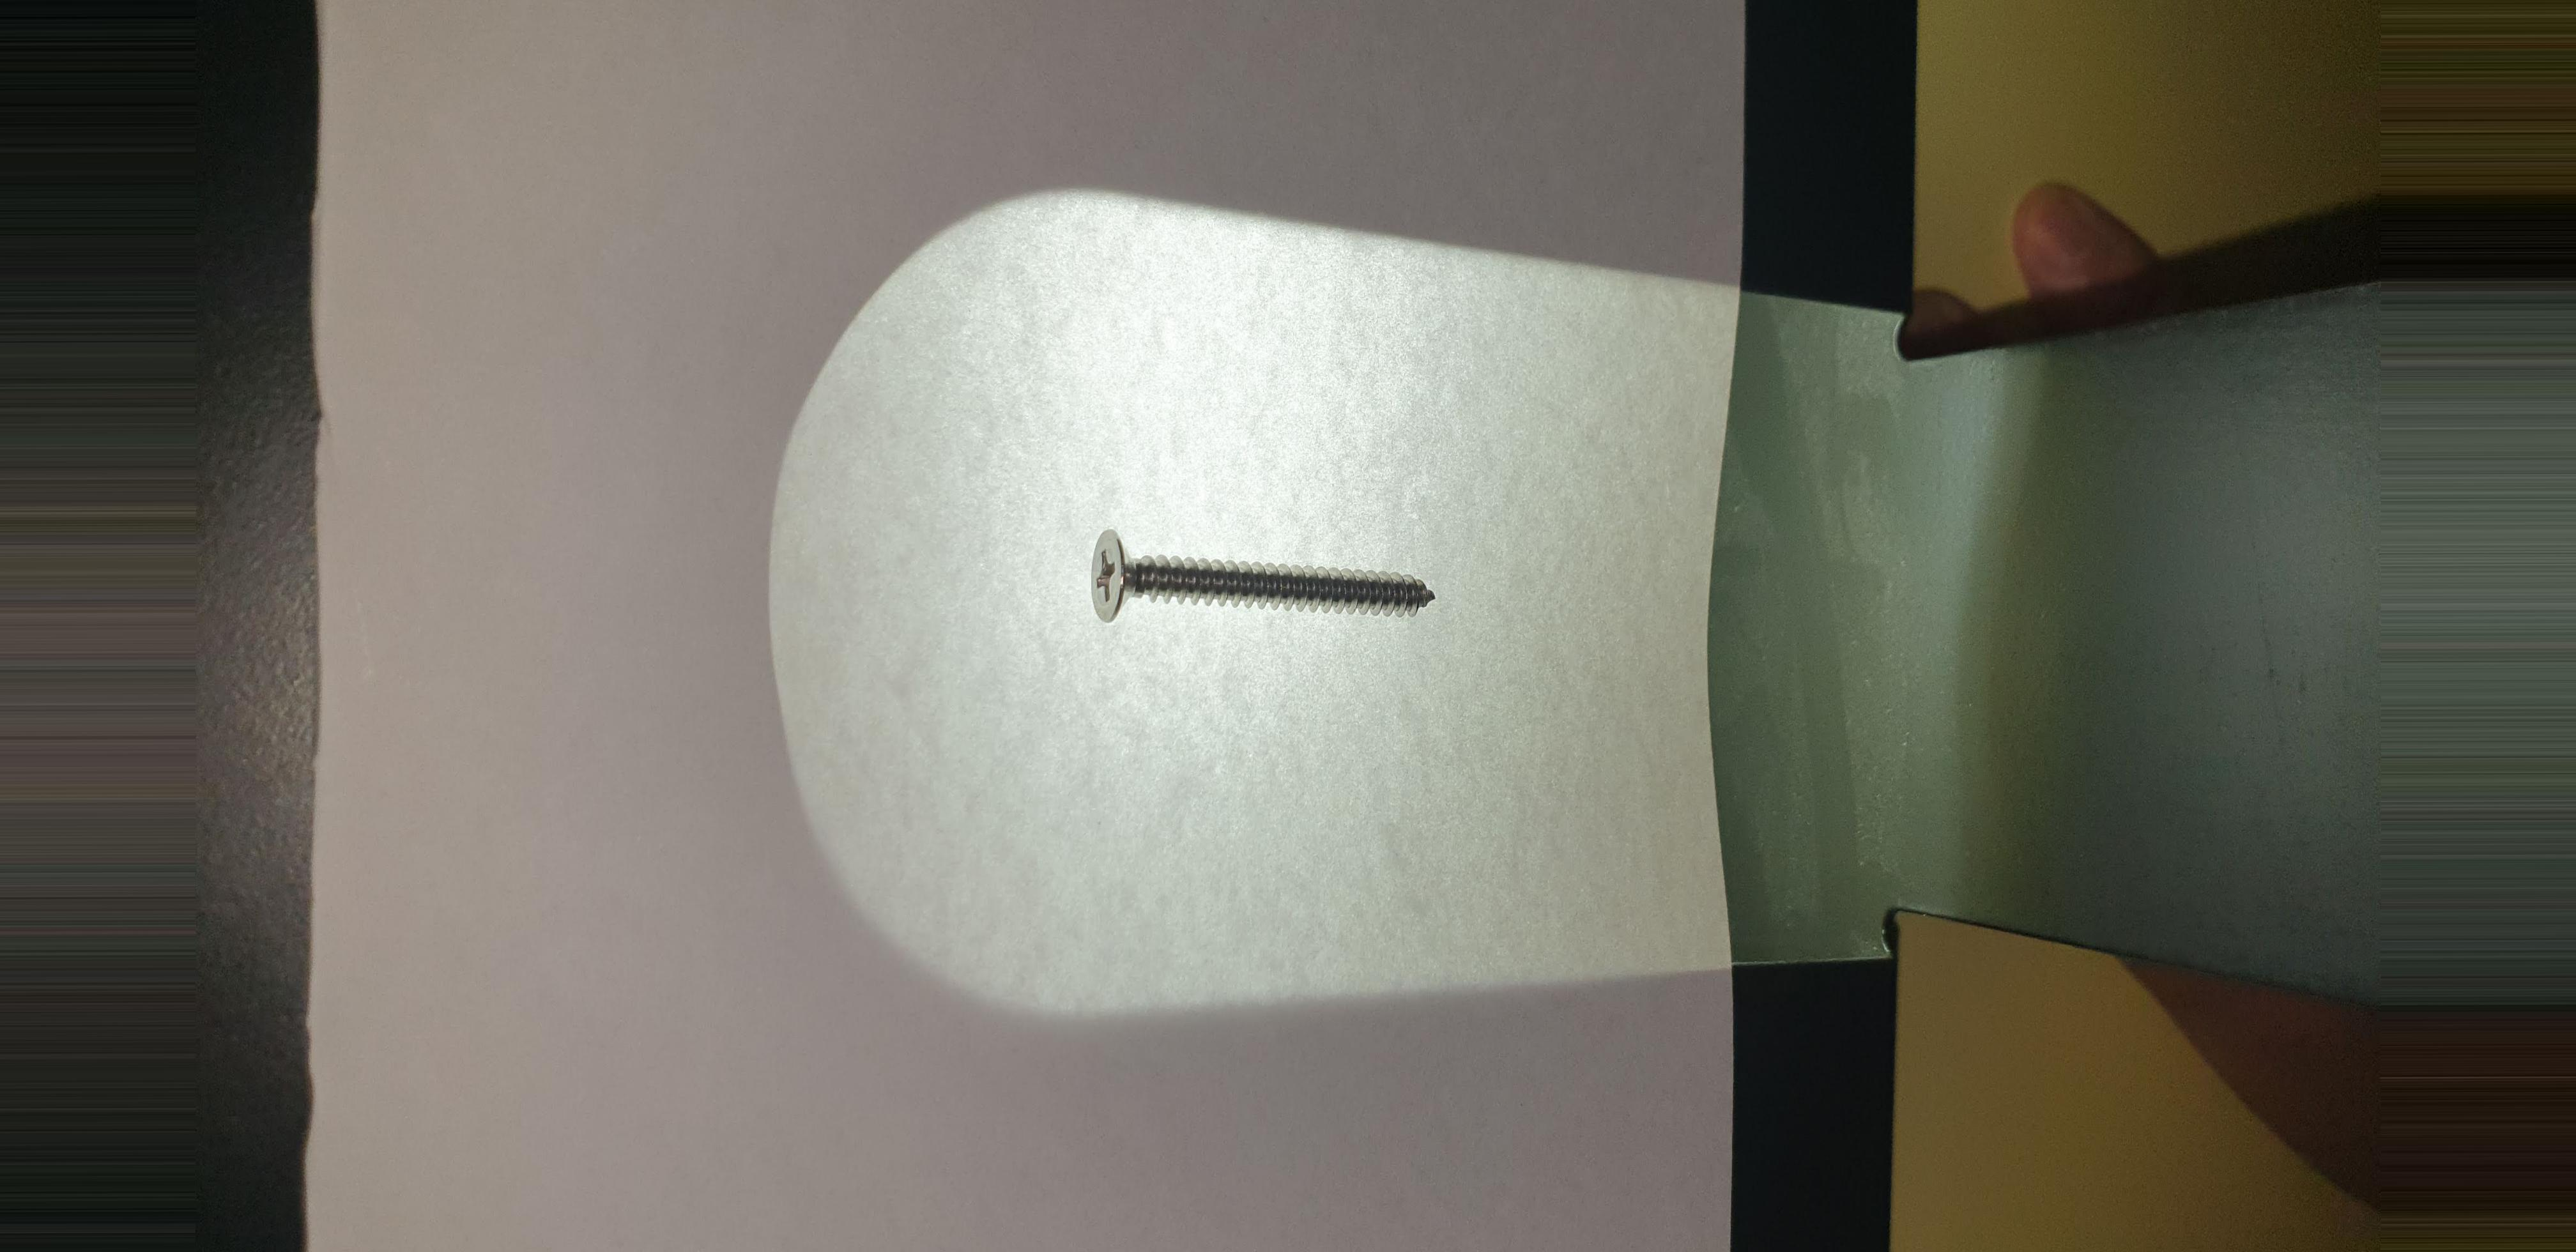fastener: (1051, 516, 1487, 646)
